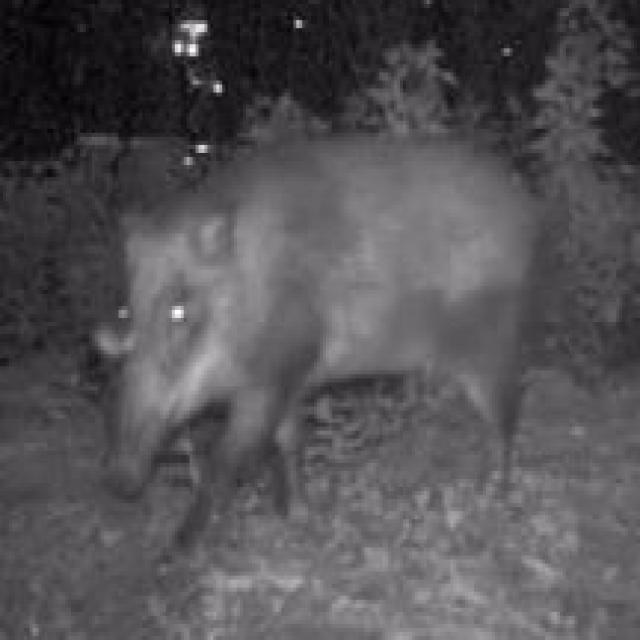boar: (68, 106, 581, 569)
